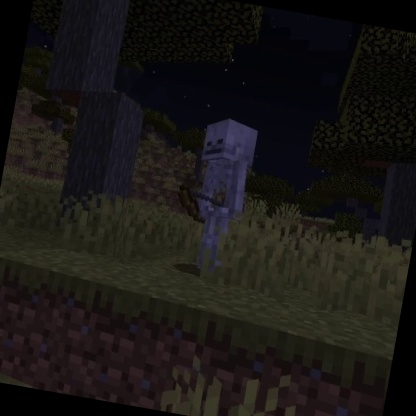skeleton: (163, 108, 266, 279)
